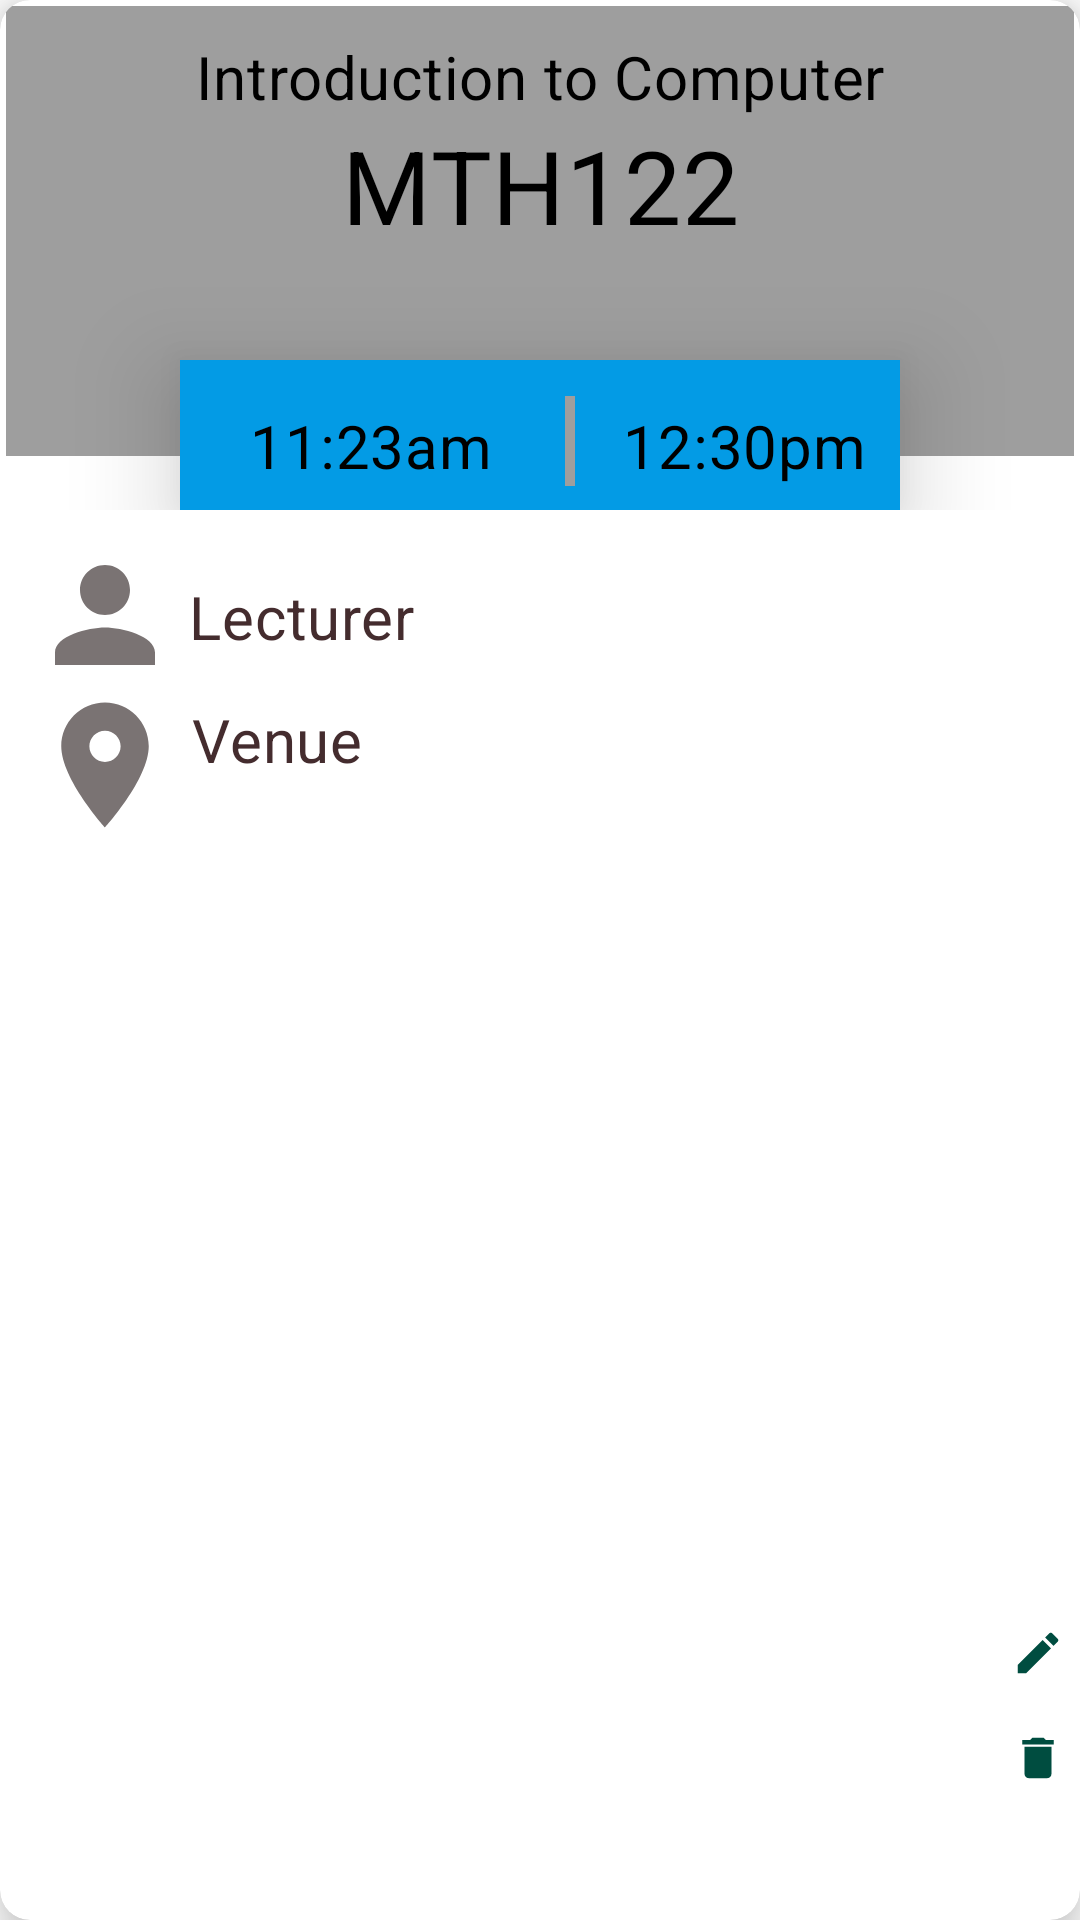

Named icons in this screenshot (1080×1920) and their centers, (x=x, y=y):
delete: (x=1038, y=1758)
edit: (x=1038, y=1653)
location on: (x=105, y=764)
person: (x=105, y=615)
